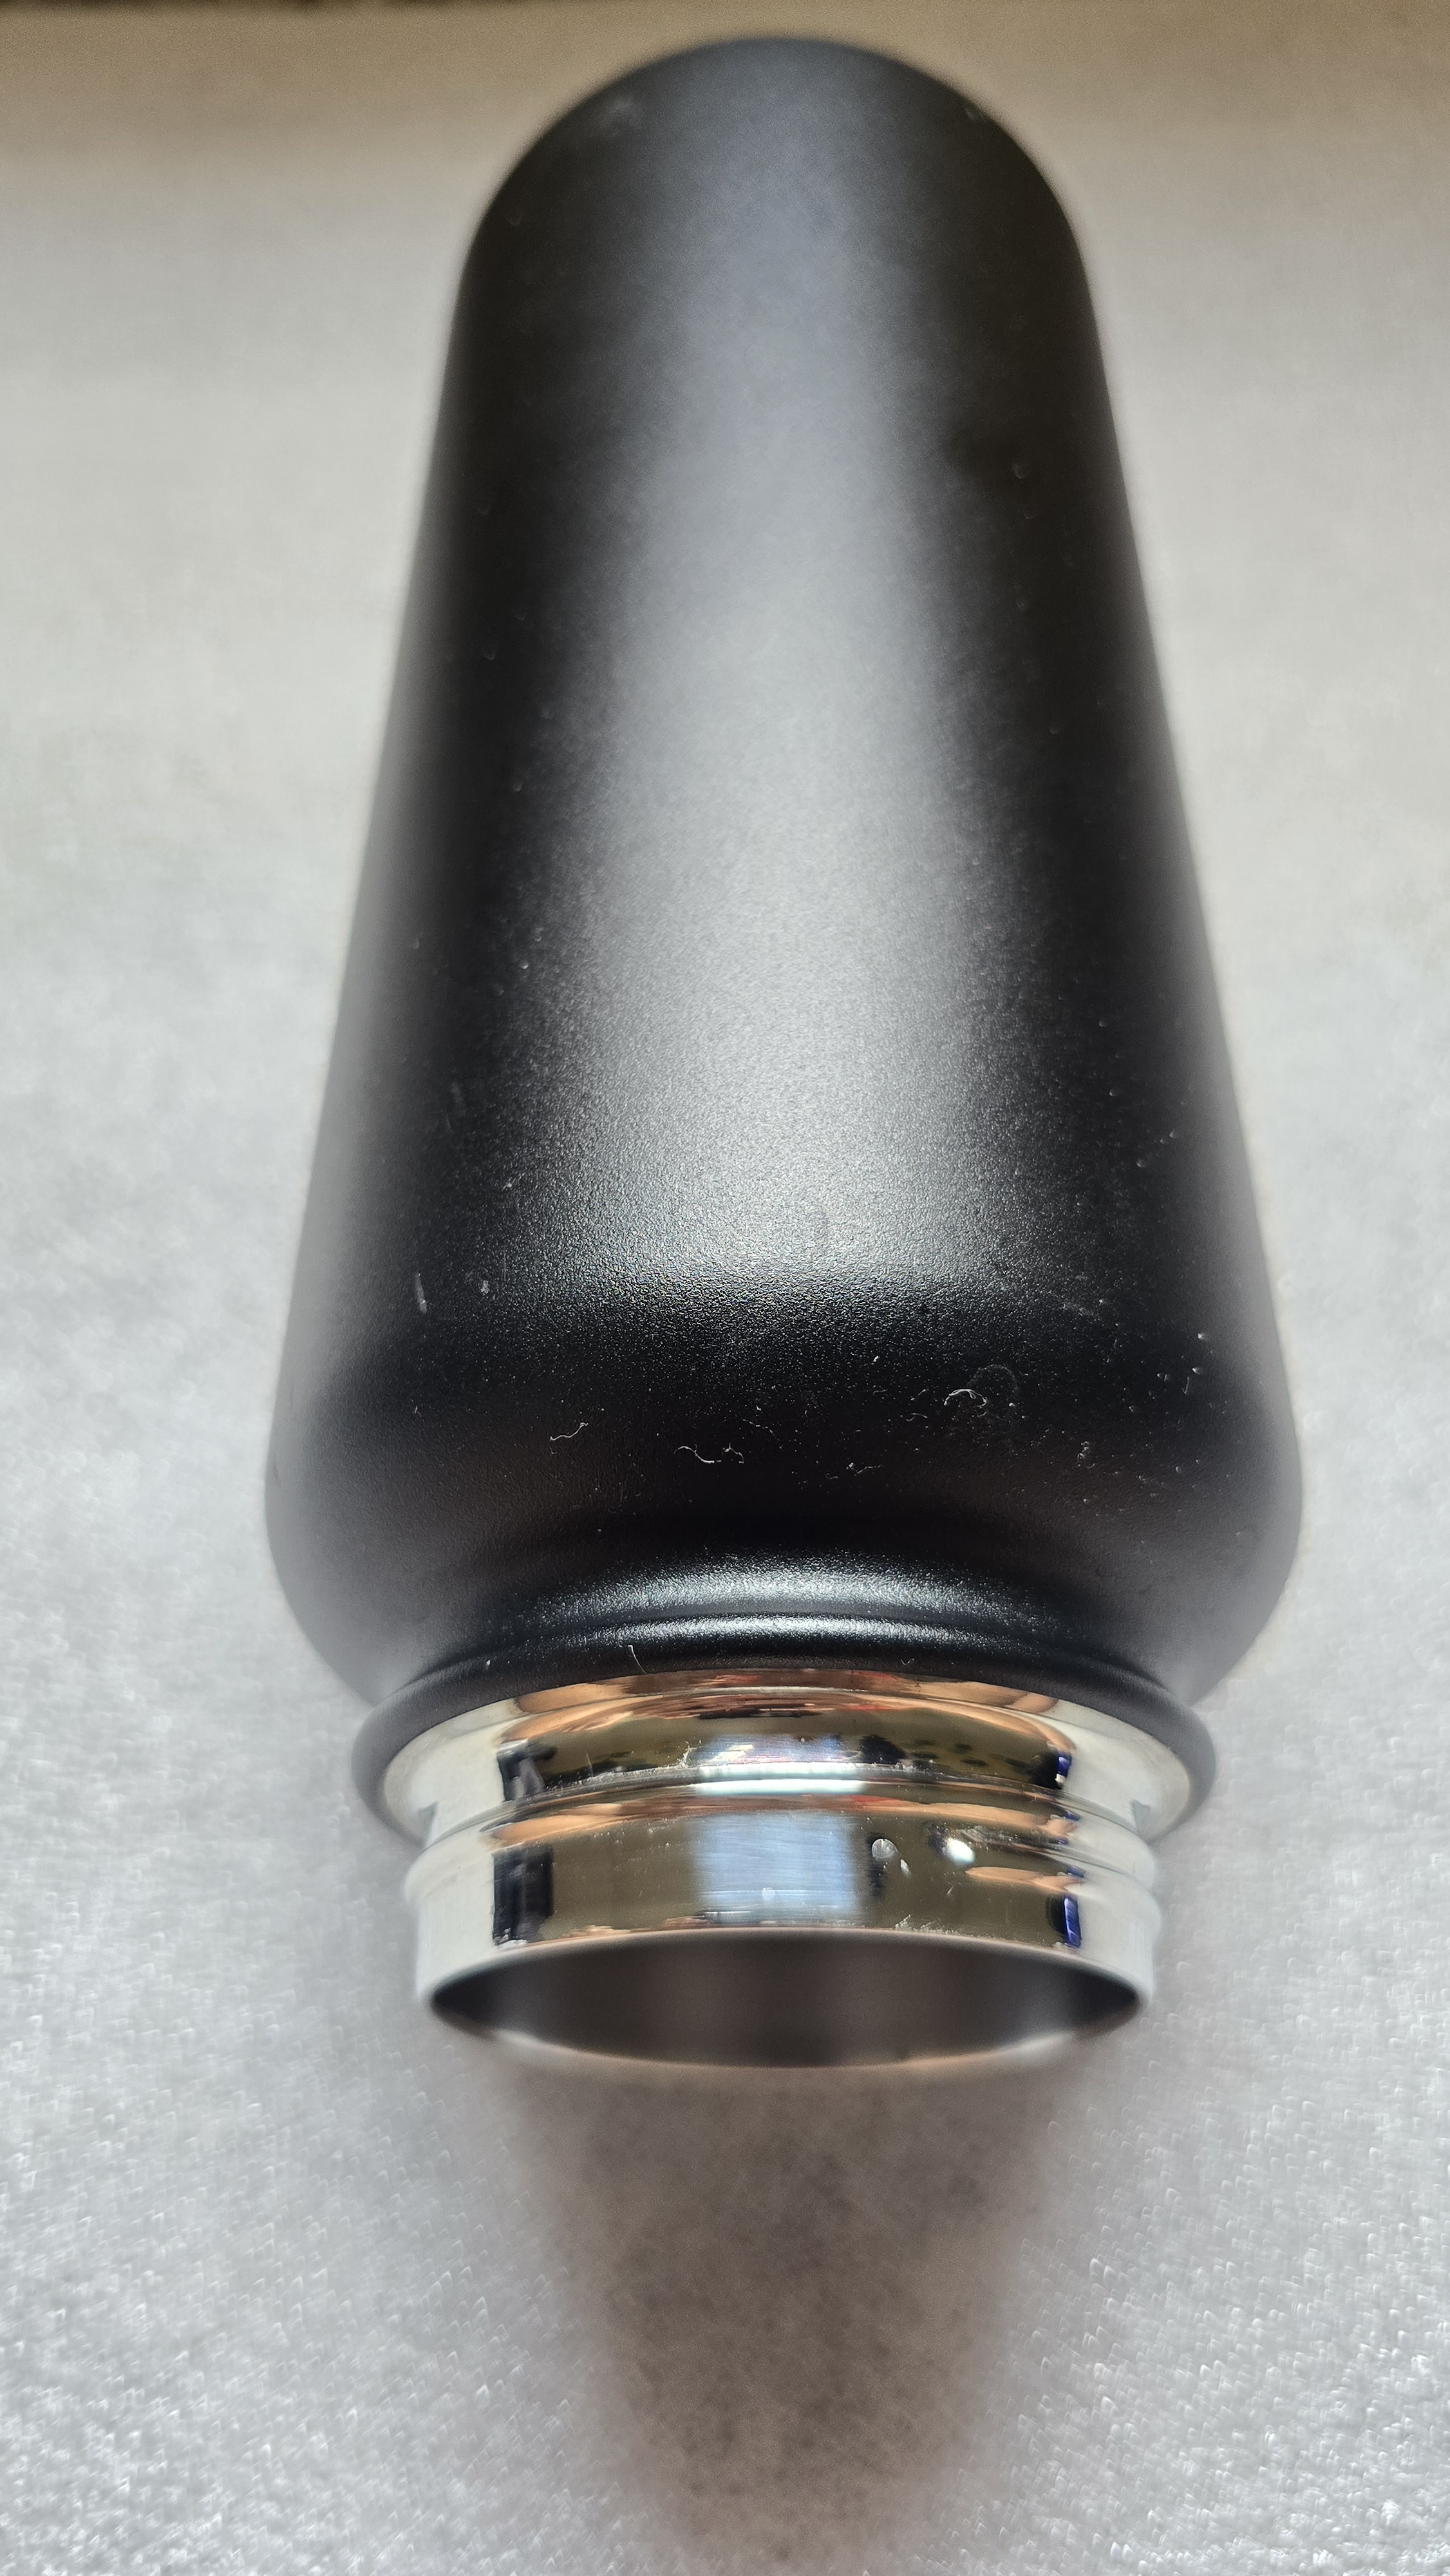bottle: (297, 41, 1309, 2104)
